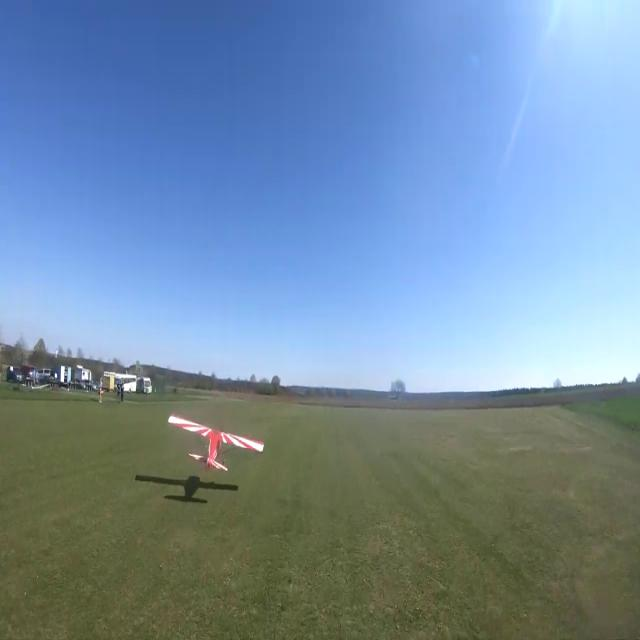iha: (201, 412, 231, 472)
